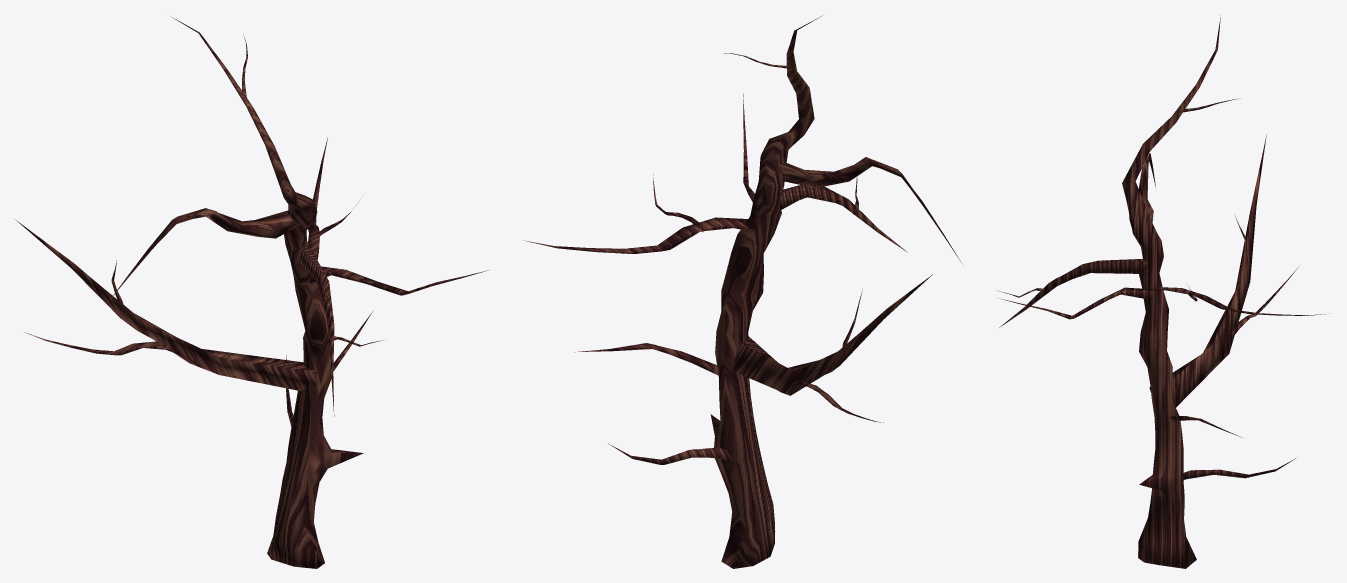
The model's file is SM_Tree.fbx.
3 views of the same model, side by side, from view 1: azimuth 30°, elevation 25°; view 2: azimuth 150°, elevation 25°; view 3: azimuth 270°, elevation 25° (orthographic). The views are drawn at different scales.
Visible parts, largest first — view 1: SM_Tree; view 2: SM_Tree; view 3: SM_Tree.
Part boxes in pixels (x1=…): SM_Tree: x1=15, y1=16, x2=489, y2=568; SM_Tree: x1=523, y1=16, x2=962, y2=568; SM_Tree: x1=997, y1=15, x2=1328, y2=568.
Bounding box in the file's own units: 131 × 121 × 198.
